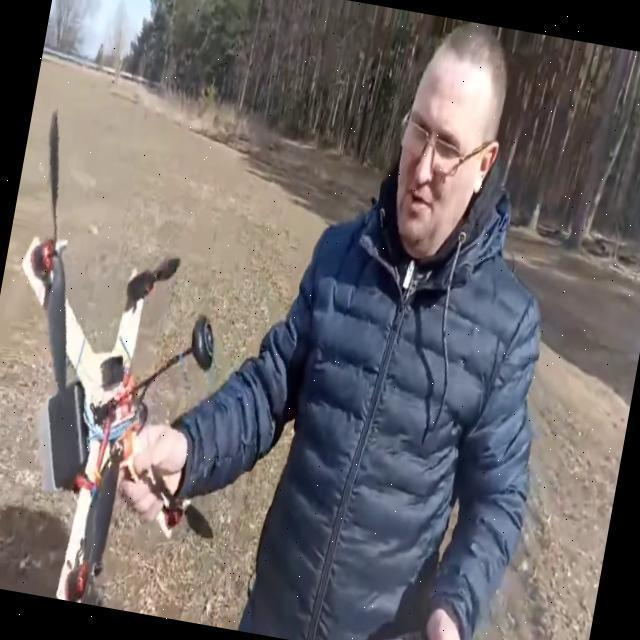Drons: (0, 99, 285, 621)
